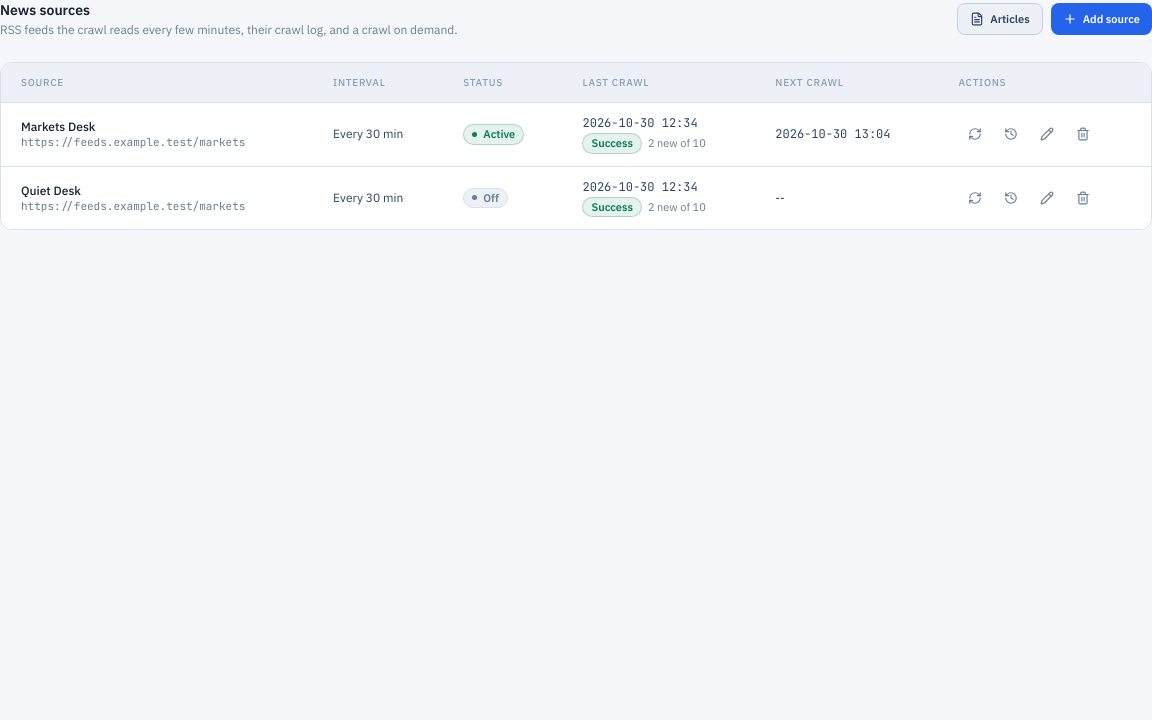
Test: news sources console (SCR-41, UC-49, T-080b) › explains that a source articles came from cannot be deleted
What coordinates should you click on to do the following:
click the button named "Delete Markets Desk"
I would click on:
 (1082, 134)
Its box is [1066,118,1098,150].
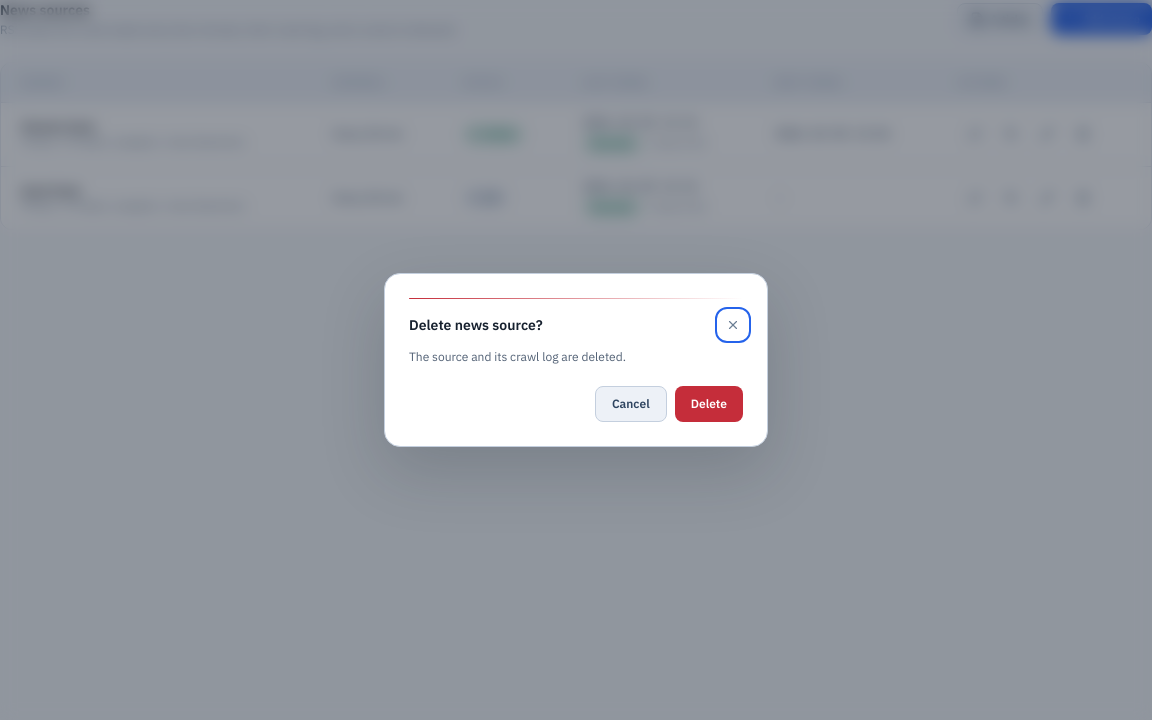
What coordinates should you click on to do the following:
click the button "Delete"
I would click on:
 (709, 404)
Its box is [675,386,743,422].
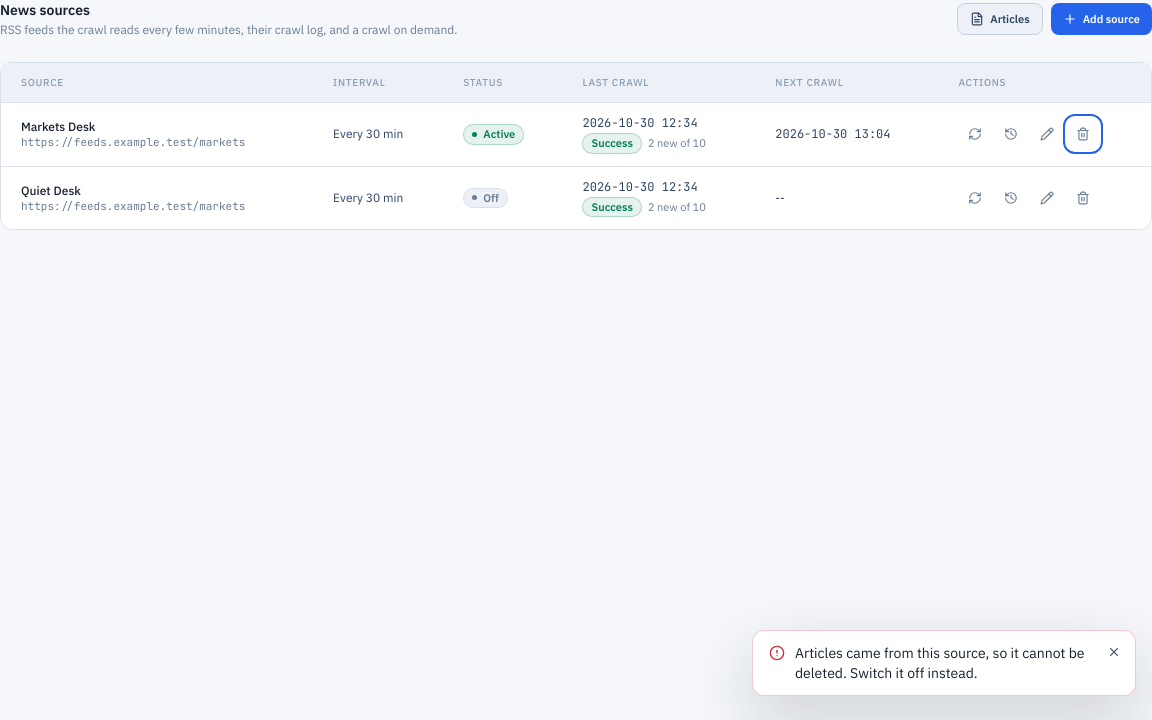
expect the text "Articles came from this source, so it cannot be deleted. Switch it off instead." is shown: met, box [795,643,1095,683]
